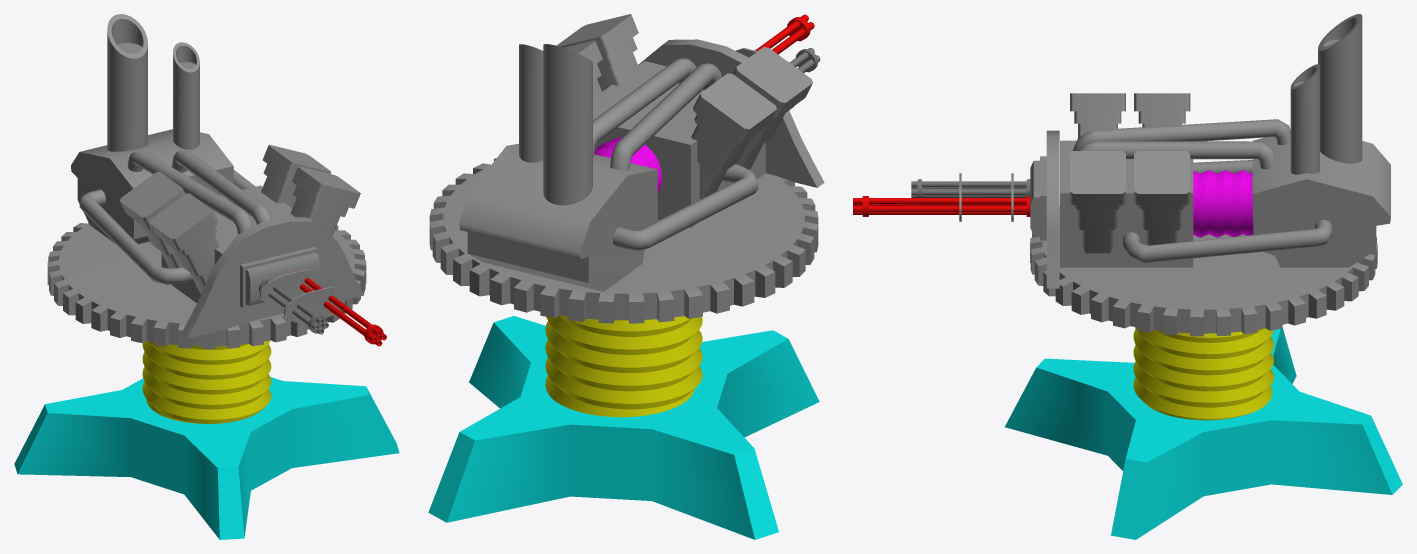
File: Turret_Small.fbx
The picture shows the model from 3 angles, left to right: view 1: azimuth 30°, elevation 25°; view 2: azimuth 150°, elevation 25°; view 3: azimuth 270°, elevation 25°; orthographic projection. The views are drawn at different scales.
Parts seen in each view (by area): view 1: Turret_Body, Base, Base_Gear, Barrel_Small2, Barrel_Small; view 2: Turret_Body, Base, Base_Gear, Barrel_Small2, Body_Gear, Barrel_Small; view 3: Turret_Body, Base, Base_Gear, Body_Gear, Barrel_Small2, Barrel_Small.
Boxes of the visible parts, bbox=[...] form: Turret_Body: bbox=[47, 14, 366, 348]; Base: bbox=[14, 377, 399, 539]; Base_Gear: bbox=[142, 340, 271, 423]; Barrel_Small2: bbox=[297, 270, 386, 346]; Barrel_Small: bbox=[259, 278, 328, 334]; Turret_Body: bbox=[429, 14, 824, 323]; Base: bbox=[428, 316, 819, 539]; Base_Gear: bbox=[545, 315, 702, 417]; Barrel_Small2: bbox=[755, 14, 814, 54]; Body_Gear: bbox=[594, 137, 661, 193]; Barrel_Small: bbox=[790, 47, 820, 72]; Turret_Body: bbox=[959, 14, 1390, 336]; Base: bbox=[1005, 328, 1402, 539]; Base_Gear: bbox=[1133, 327, 1273, 420]; Body_Gear: bbox=[1193, 170, 1253, 237]; Barrel_Small2: bbox=[853, 196, 1030, 216]; Barrel_Small: bbox=[911, 179, 1030, 197].
Size of the model in its own units: 11.24 by 13.4 by 15.51.
